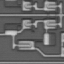dust: (30, 29, 35, 33)
